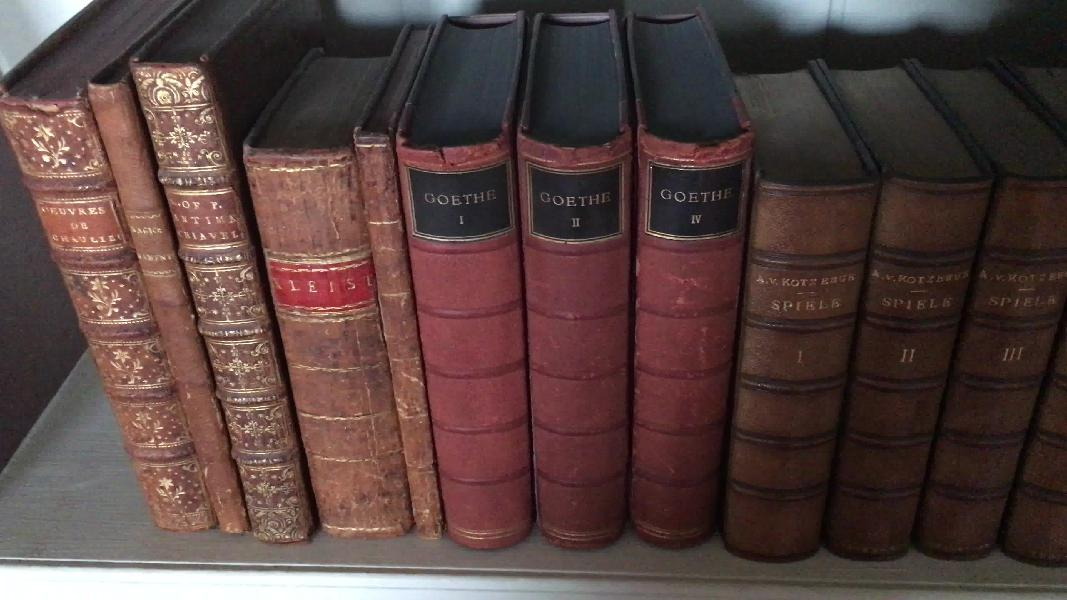Aa6-10: (351, 131, 451, 546)
Aa6-14_17: (390, 134, 741, 565), (724, 162, 1067, 586)
Aa6-6: (4, 97, 215, 538)
Aa6-7: (84, 77, 259, 544)
Aa6-8: (120, 52, 305, 537)
Aa6-9: (234, 147, 418, 545)
